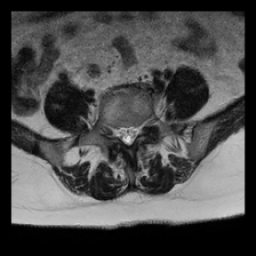CCS_normal: (124, 118, 131, 153)
LFS_stenosis: (138, 114, 146, 136)
LLS_normal: (131, 117, 138, 144)
RFS_normal: (109, 118, 117, 144)
RLS_normal: (117, 118, 124, 147)
